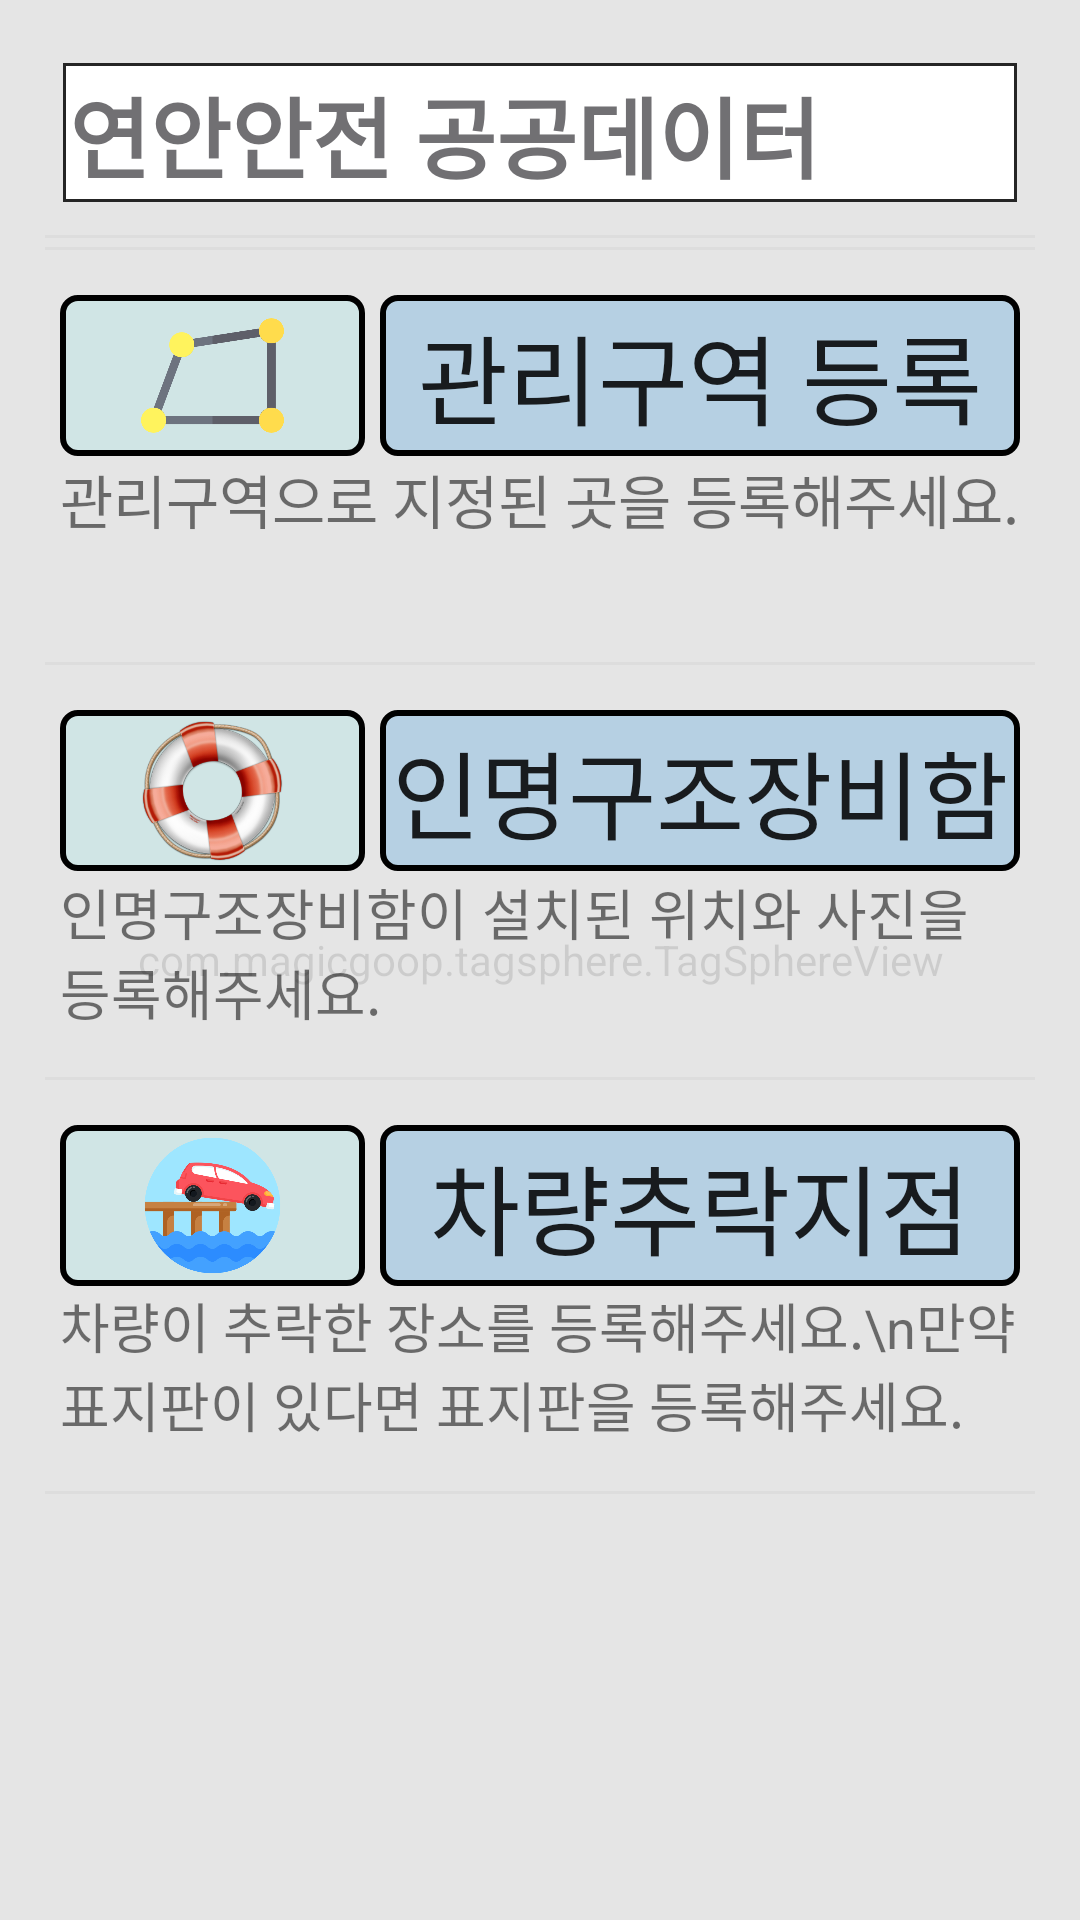

Icon click points for this 1080w x 1920h phone screenshot, format point (x, y):
fallingicon: point (212, 1205)
polygonicon: point (212, 375)
tubeicon: point (212, 790)
